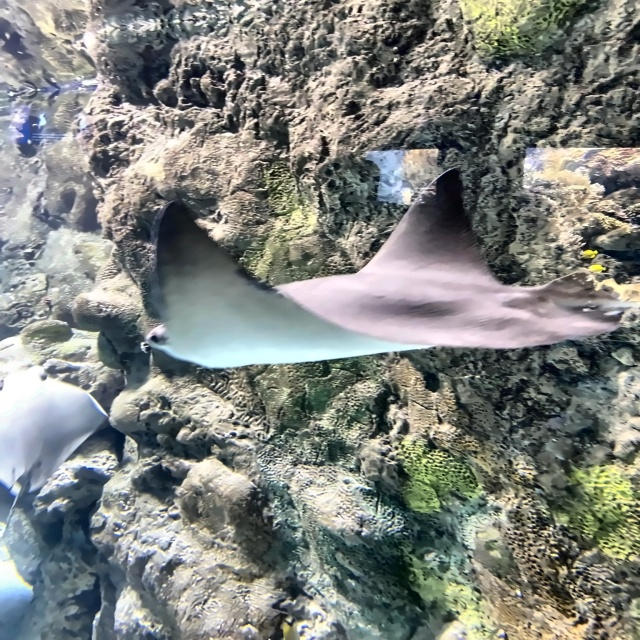stingray: (143, 166, 622, 371), (1, 363, 112, 500)
